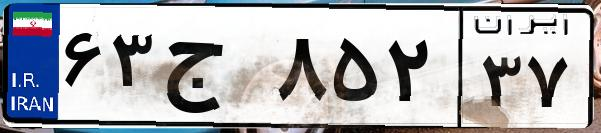2: (385, 28, 445, 110)
3: (475, 38, 525, 113), (110, 28, 158, 98)
5: (330, 28, 385, 110)
6: (57, 26, 110, 100)
7: (525, 38, 570, 115)
8: (270, 28, 330, 110)
ج: (158, 20, 270, 120)
